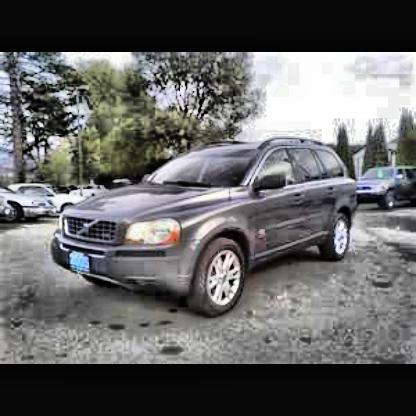Volvo XC90 SUV 2007: (52, 139, 362, 317)
